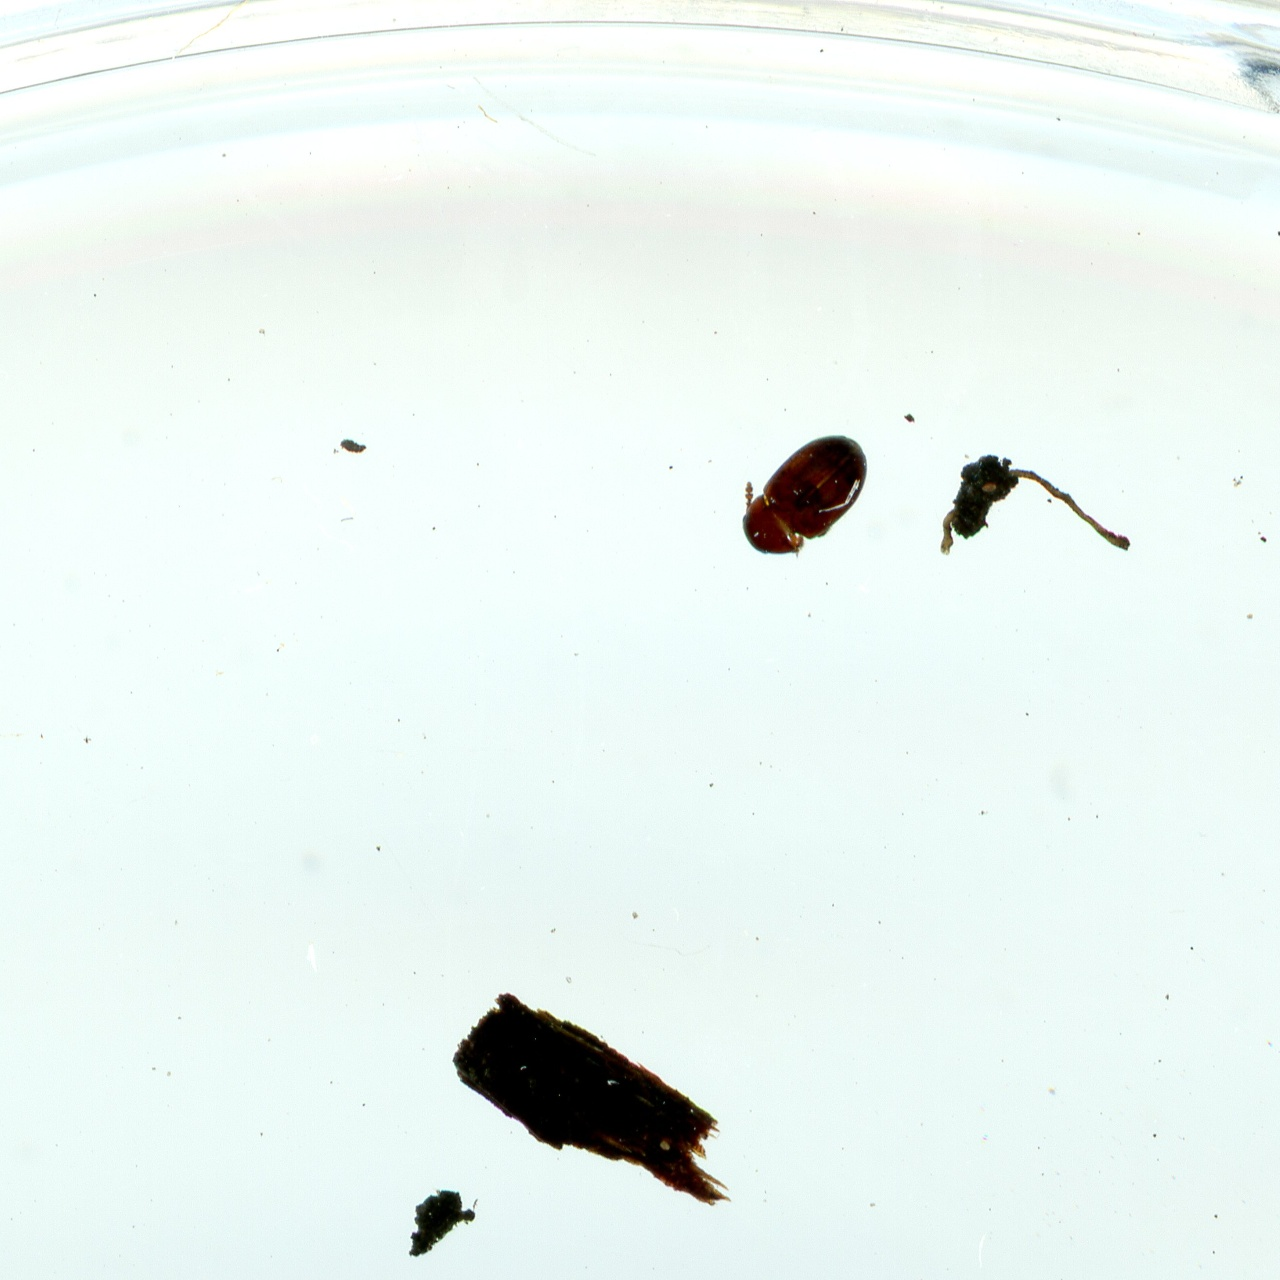arthropod: (736, 430, 874, 562)
